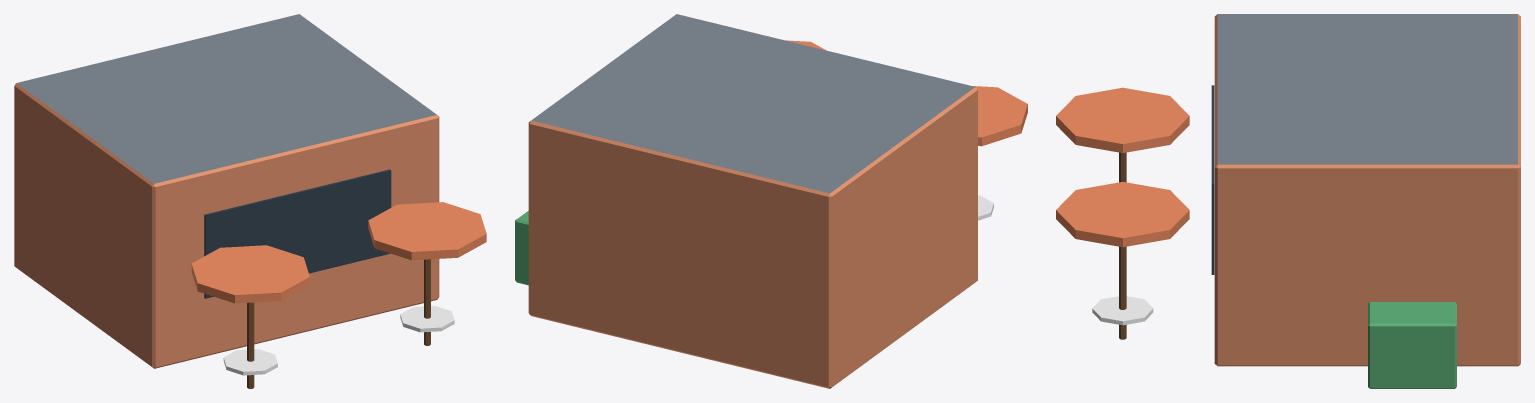
The model's file is horeca.fbx.
The picture shows the model from 3 angles, left to right: view 1: azimuth 30°, elevation 25°; view 2: azimuth 150°, elevation 25°; view 3: azimuth 270°, elevation 25°; orthographic projection. The views are drawn at different scales.
Parts seen in each view (by area): view 1: horeca; view 2: horeca; view 3: horeca.
Part boxes in pixels (x1=…): horeca: x1=14, y1=14, x2=486, y2=388; horeca: x1=515, y1=14, x2=1027, y2=388; horeca: x1=1056, y1=14, x2=1520, y2=388.
Size of the model in its own units: 7.45 by 4 by 8.35.
